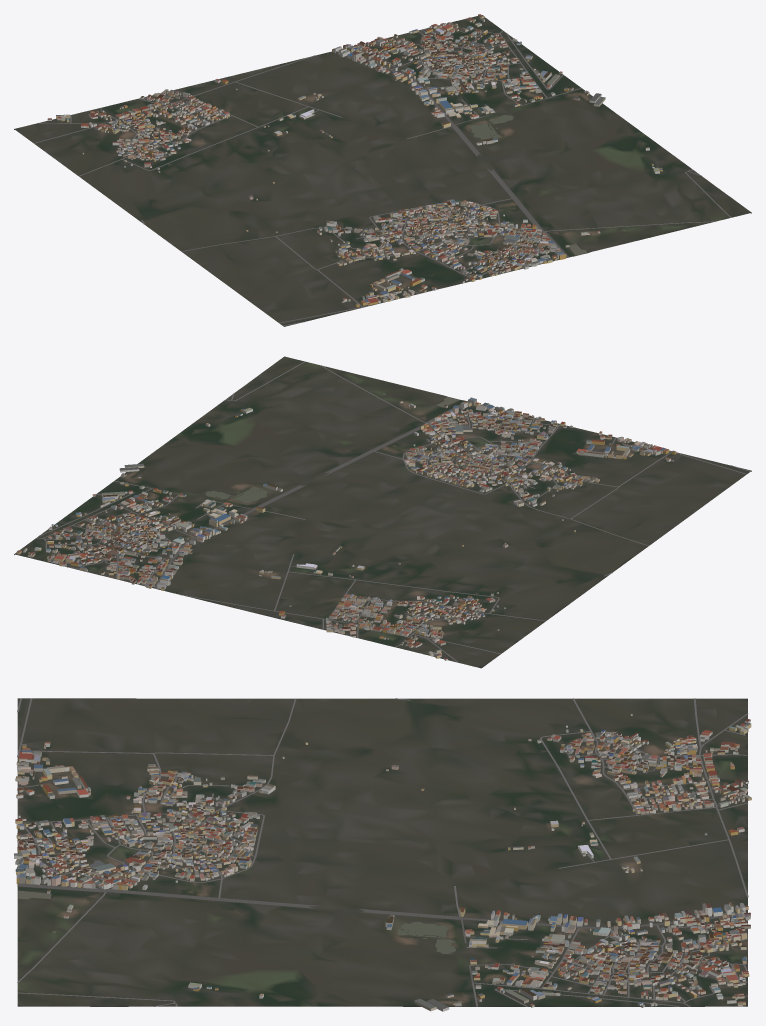
3 views of the same model, one above another, from view 1: azimuth 30°, elevation 25°; view 2: azimuth 150°, elevation 25°; view 3: azimuth 270°, elevation 25° (orthographic). The views are drawn at different scales.
Visible parts, largest first — view 1: ground, buildings, roads, water; view 2: ground, buildings, roads, water; view 3: ground, buildings, roads, water.
Boxes of the visible parts, bbox=[...] form: ground: bbox=[14, 16, 751, 326]; buildings: bbox=[47, 14, 662, 307]; roads: bbox=[33, 18, 731, 326]; water: bbox=[470, 115, 625, 255]; ground: bbox=[14, 356, 751, 668]; buildings: bbox=[16, 397, 676, 660]; roads: bbox=[30, 361, 750, 662]; water: bbox=[205, 393, 459, 503]; ground: bbox=[17, 698, 747, 1006]; buildings: bbox=[14, 713, 751, 1011]; roads: bbox=[17, 698, 748, 1006]; water: bbox=[18, 890, 455, 953].
Bounding box in the file's own units: 1424 × 23.37 × 1417.
